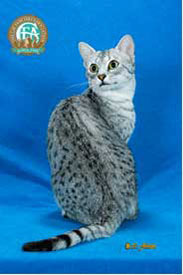cat: (77, 33, 139, 92)
